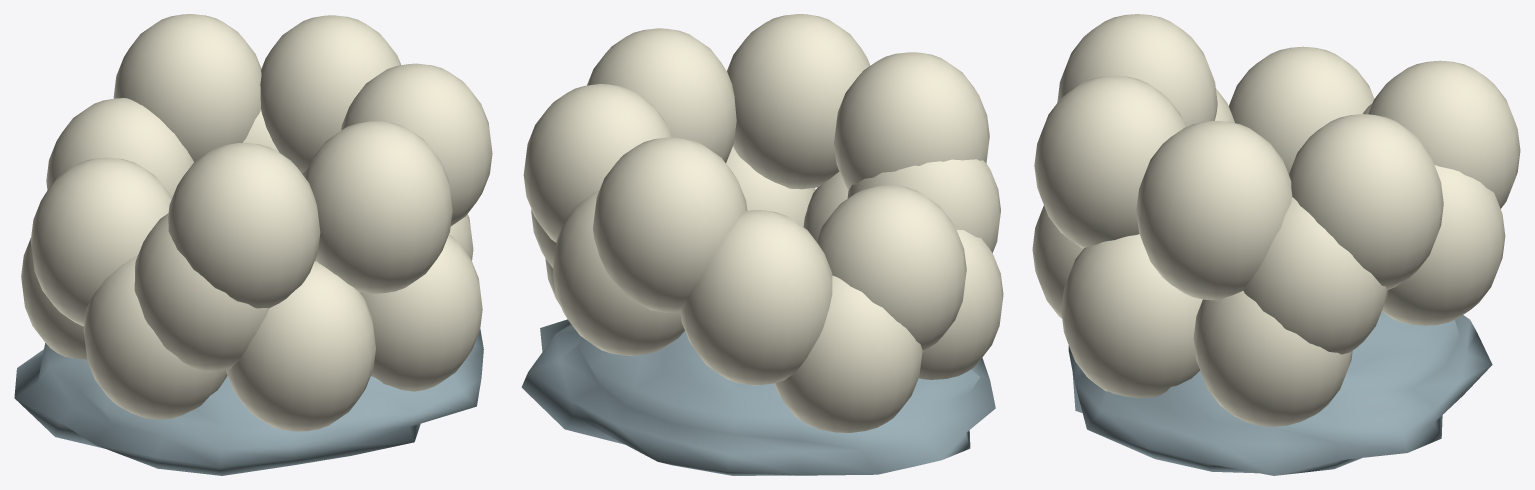
Rendered from underwater-reef-worlds-bubble-coral-decc40e3__7007.glb.
3 renders of one model, left to right at view 1: azimuth 30°, elevation 25°; view 2: azimuth 150°, elevation 25°; view 3: azimuth 270°, elevation 25°, orthographic. The views are drawn at different scales.
Parts seen in each view (by area): view 1: bubble-coral; view 2: bubble-coral; view 3: bubble-coral.
Part boxes in pixels (bbox=[...]): bubble-coral: bbox=[14, 14, 492, 475]; bubble-coral: bbox=[521, 14, 1003, 475]; bubble-coral: bbox=[1032, 14, 1520, 475].
Bounding box in the file's own units: 0.8366 × 0.57 × 0.7897.
